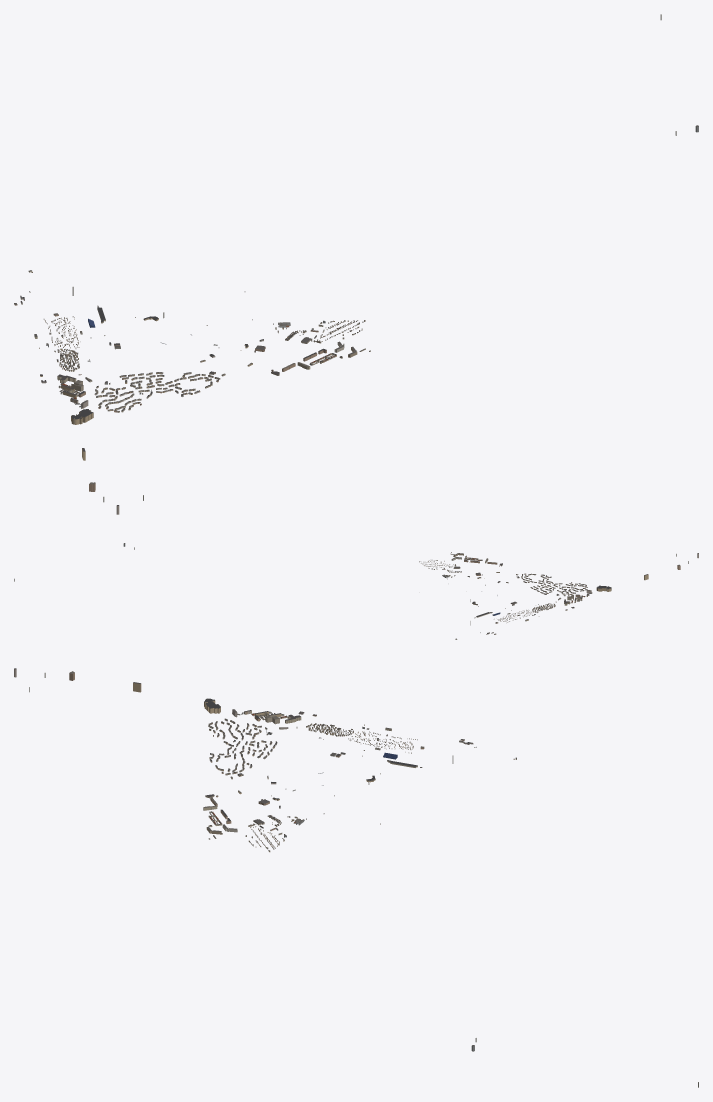
Rendered from scenery.glb.
3 views of the same model, one above another, from view 1: azimuth 30°, elevation 25°; view 2: azimuth 150°, elevation 25°; view 3: azimuth 270°, elevation 25° (orthographic). The views are drawn at different scales.
Visible parts, largest first — view 1: no part large enough to name; view 2: chunk_13_15, chunk_13_17, chunk_12_16, chunk_12_17; view 3: no part large enough to name.
Boxes of the visible parts, left/top/right/bottom form: chunk_13_15: left=505, top=601, right=550, bottom=621; chunk_13_17: left=535, top=575, right=580, bottom=591; chunk_12_16: left=551, top=591, right=588, bottom=610; chunk_12_17: left=573, top=584, right=611, bottom=595.
Size of the model in its own units: 5441 by 59.25 by 3807.
